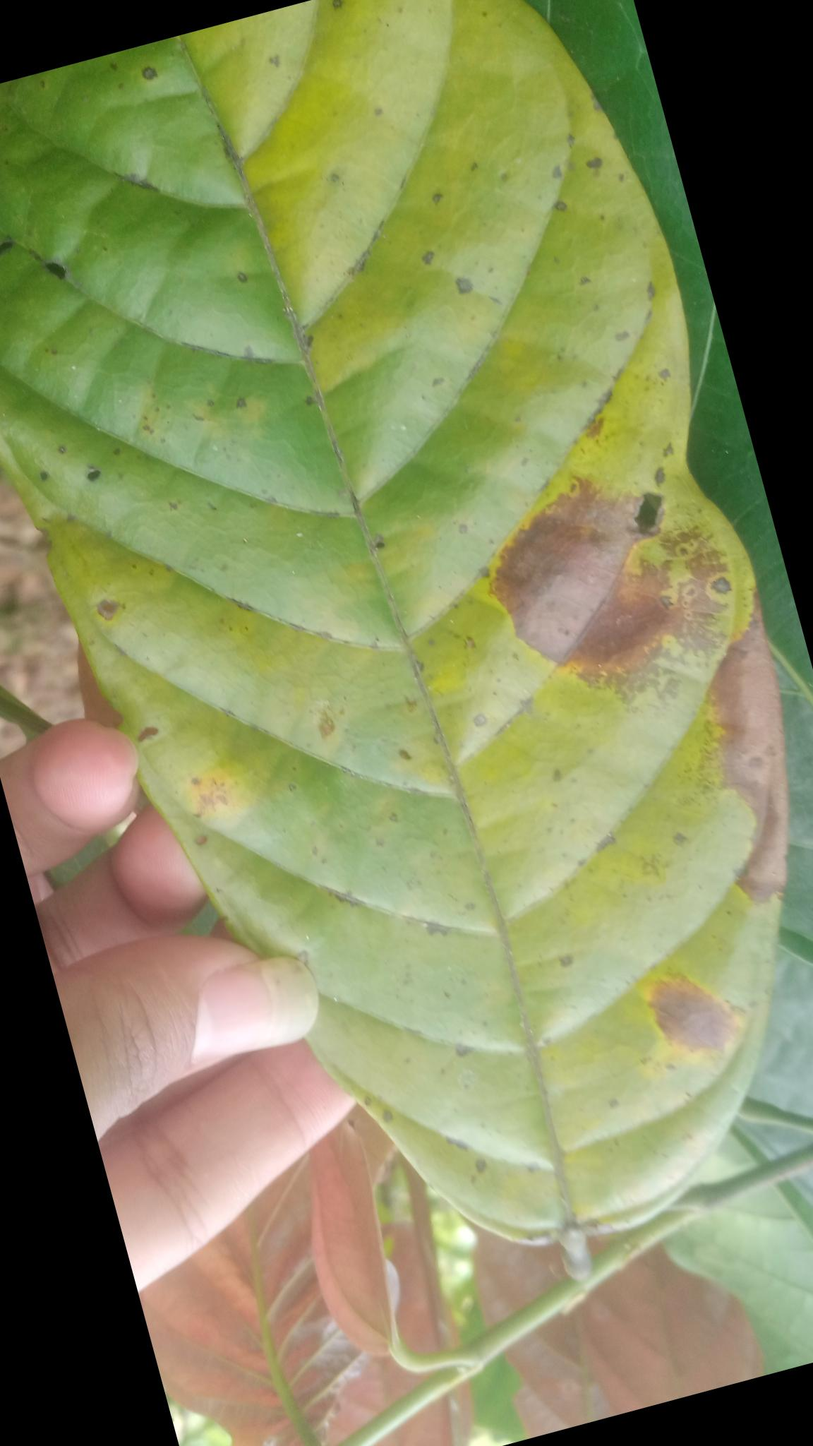Fosforo: (0, 0, 790, 1270)
